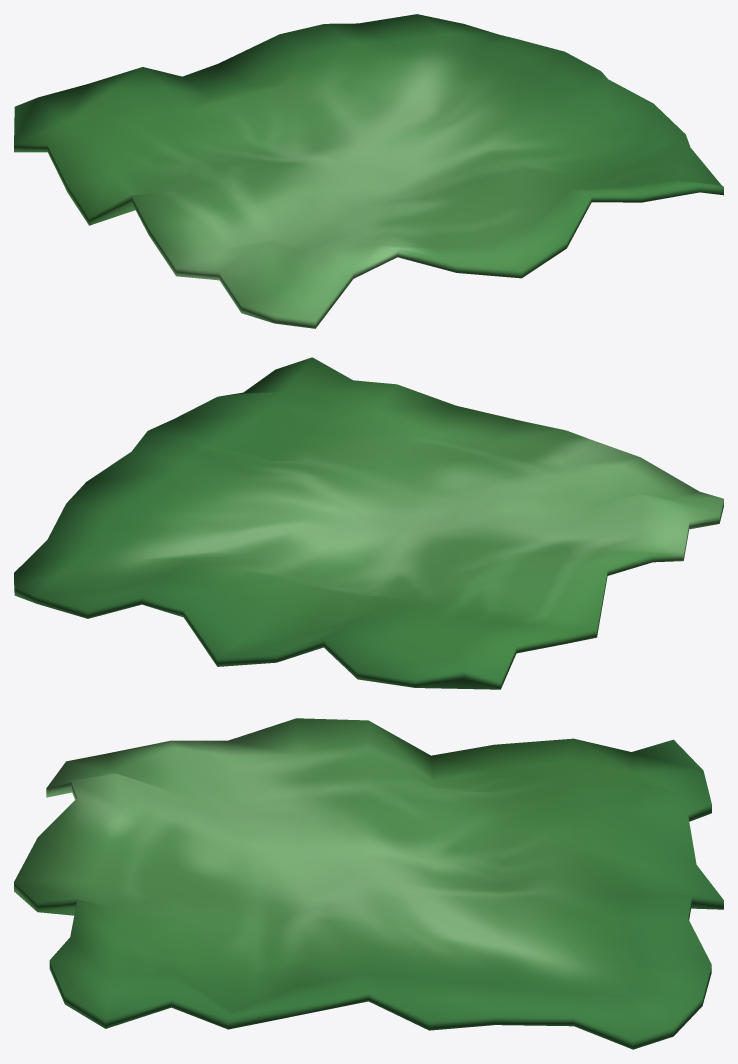
The model's file is ING_lettuceSliceV03.fbx.
The picture shows the model from 3 angles, top to bottom: view 1: azimuth 30°, elevation 25°; view 2: azimuth 150°, elevation 25°; view 3: azimuth 270°, elevation 25°; orthographic projection. The views are drawn at different scales.
Visible parts, largest first — view 1: TOP_Lettuce; view 2: TOP_Lettuce; view 3: TOP_Lettuce.
Boxes of the visible parts, x1,y1,x2,y2 form: TOP_Lettuce: (14, 14, 723, 328); TOP_Lettuce: (14, 357, 723, 689); TOP_Lettuce: (14, 718, 723, 1049).
Size of the model in its own units: 33.13 by 3.59 by 34.08.
